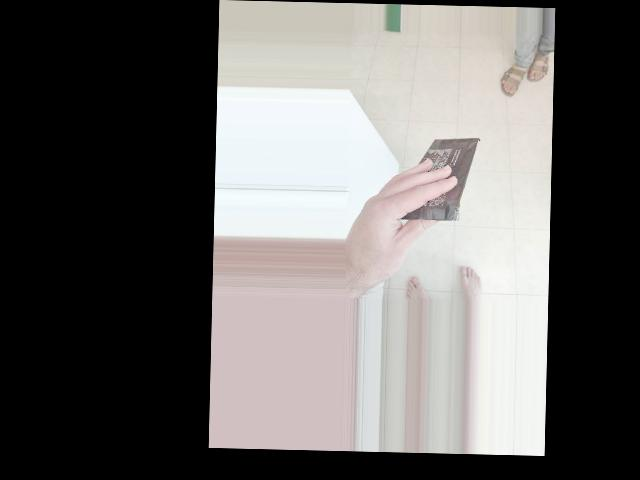chocolate: (385, 129, 481, 224)
